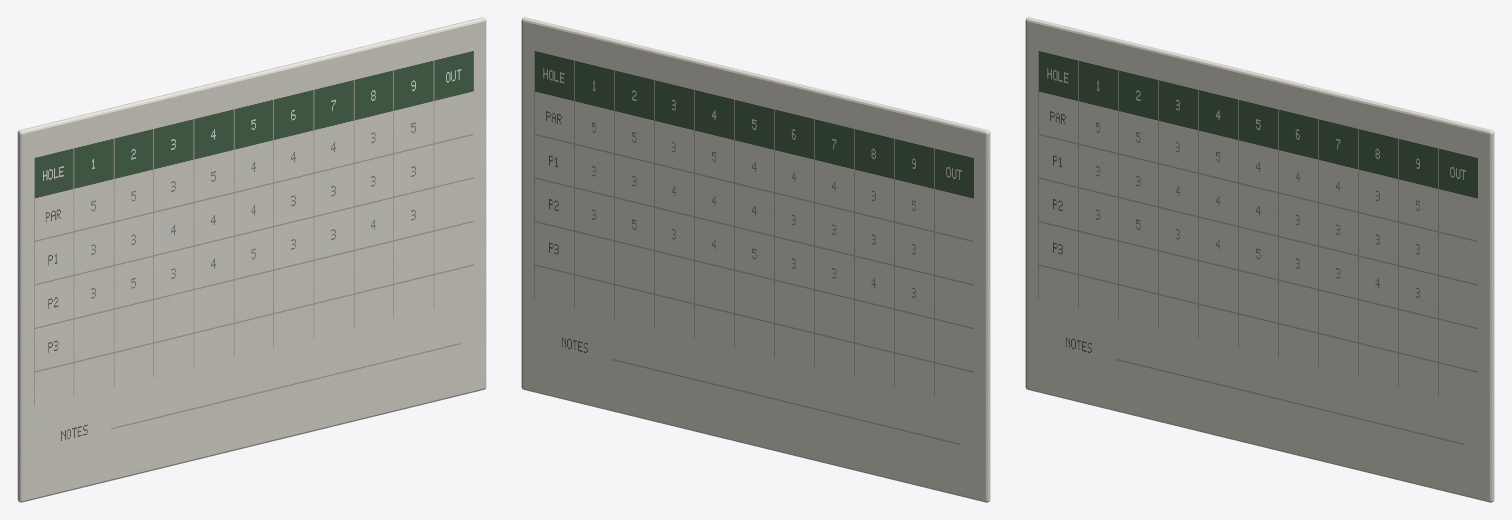
File: pf_scorecard_mini.glb
The picture shows the model from 3 angles, left to right: view 1: azimuth 30°, elevation 25°; view 2: azimuth 150°, elevation 25°; view 3: azimuth 330°, elevation 25°; orthographic projection.
Parts seen in each view (by area): view 1: pf_scorecard_mini_card; view 2: pf_scorecard_mini_card; view 3: pf_scorecard_mini_card.
Part boxes in pixels (x1=…): pf_scorecard_mini_card: x1=17, y1=17, x2=486, y2=502; pf_scorecard_mini_card: x1=521, y1=17, x2=990, y2=502; pf_scorecard_mini_card: x1=1025, y1=17, x2=1494, y2=502.
Size of the model in its own units: 0.125 by 0.095 by 0.004.
2 materials, 1 textured.
